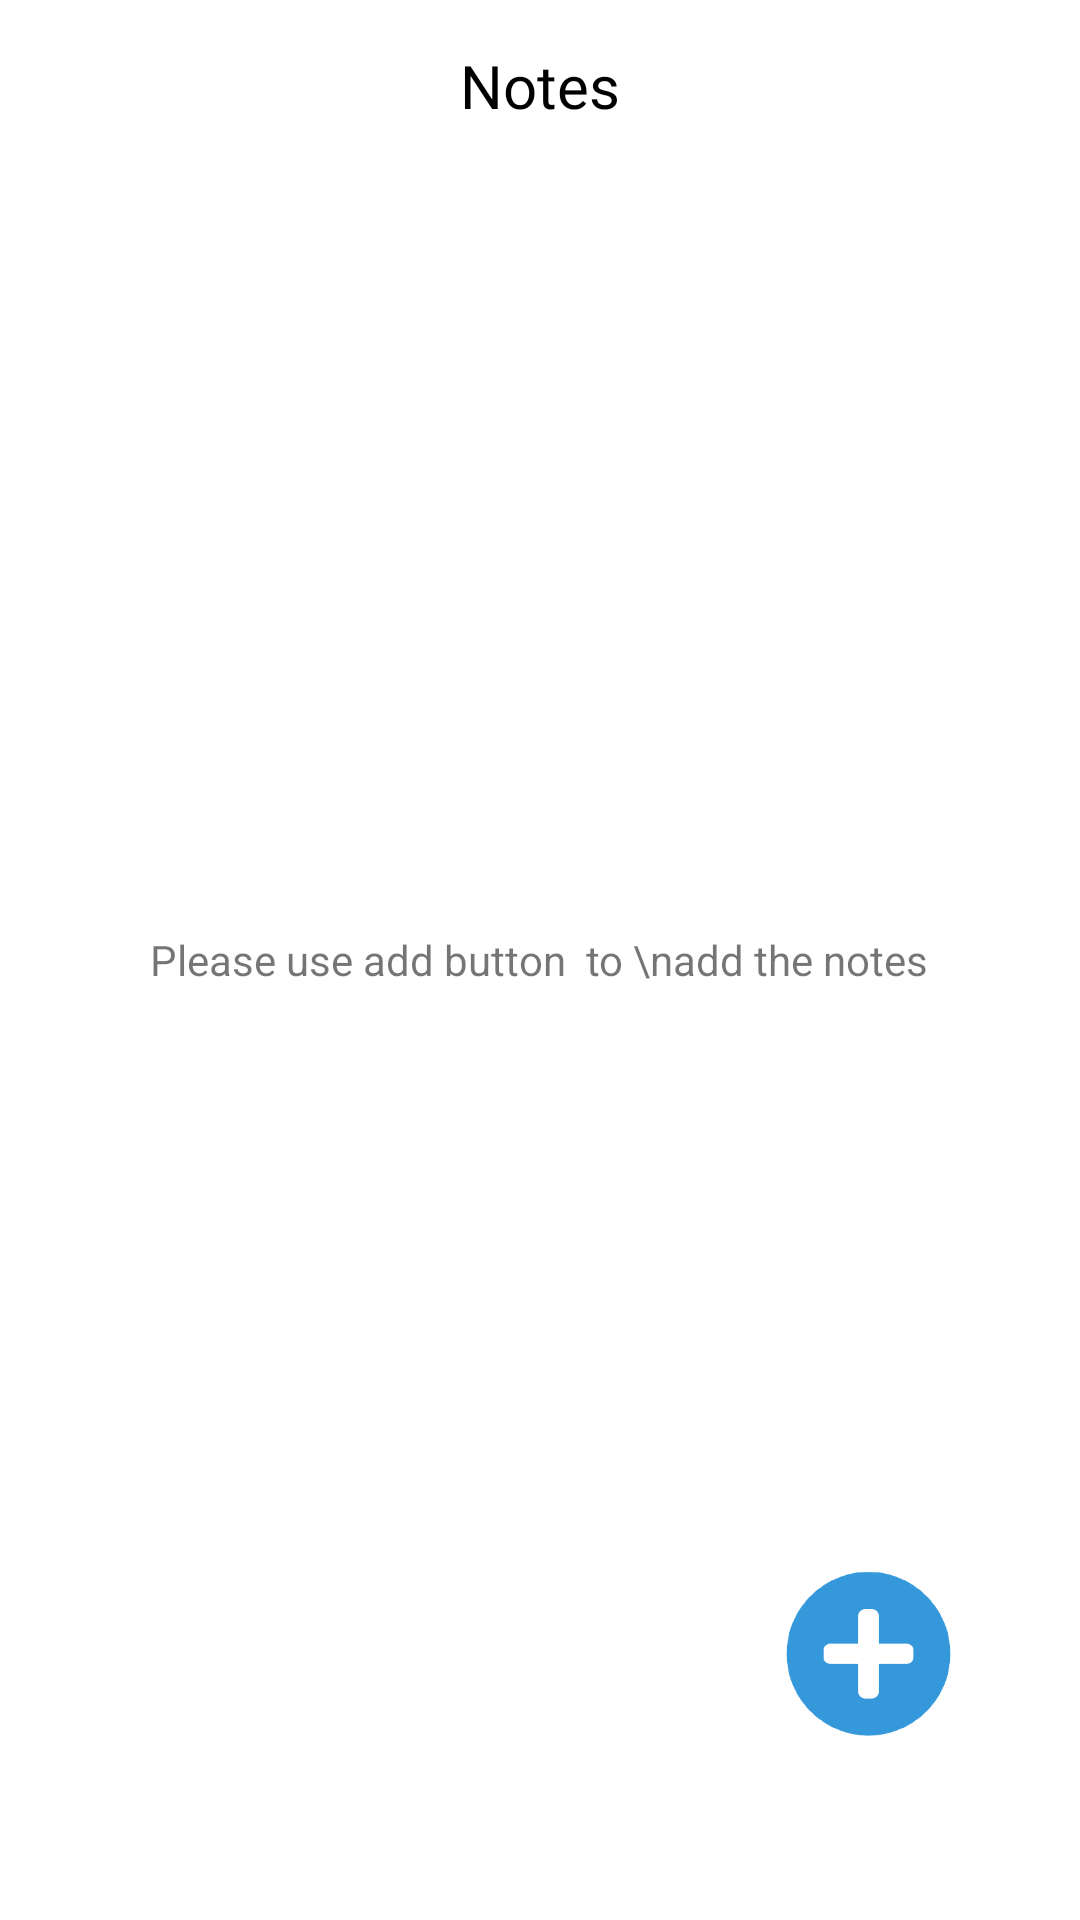

Locate icon controls on the screen. Image size 1080px×1920px, boxes as (x1, y1, x2, y2).
pluse: (786, 1572, 951, 1736)
